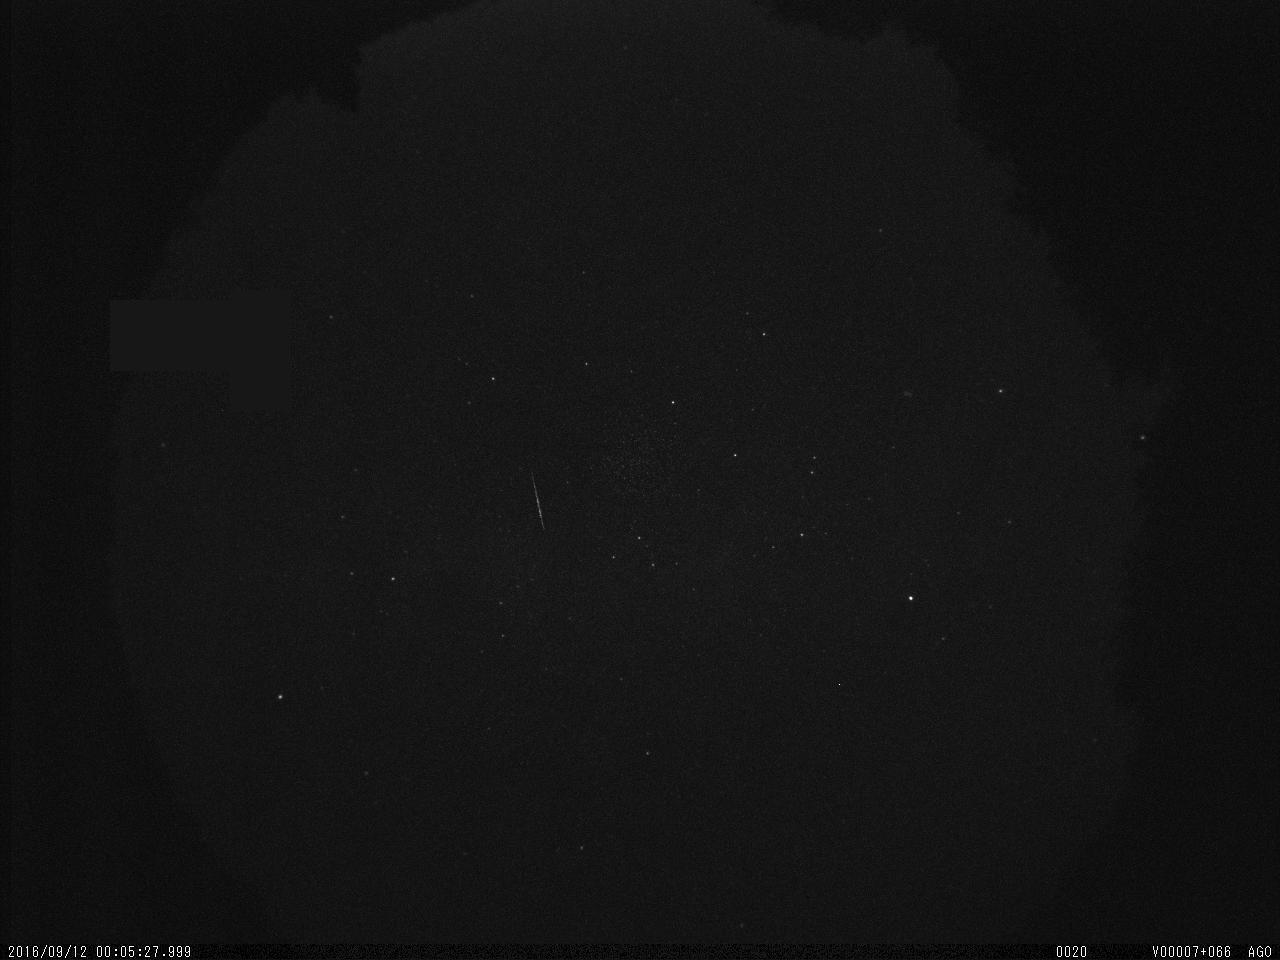meteor: (506, 462, 575, 550)
